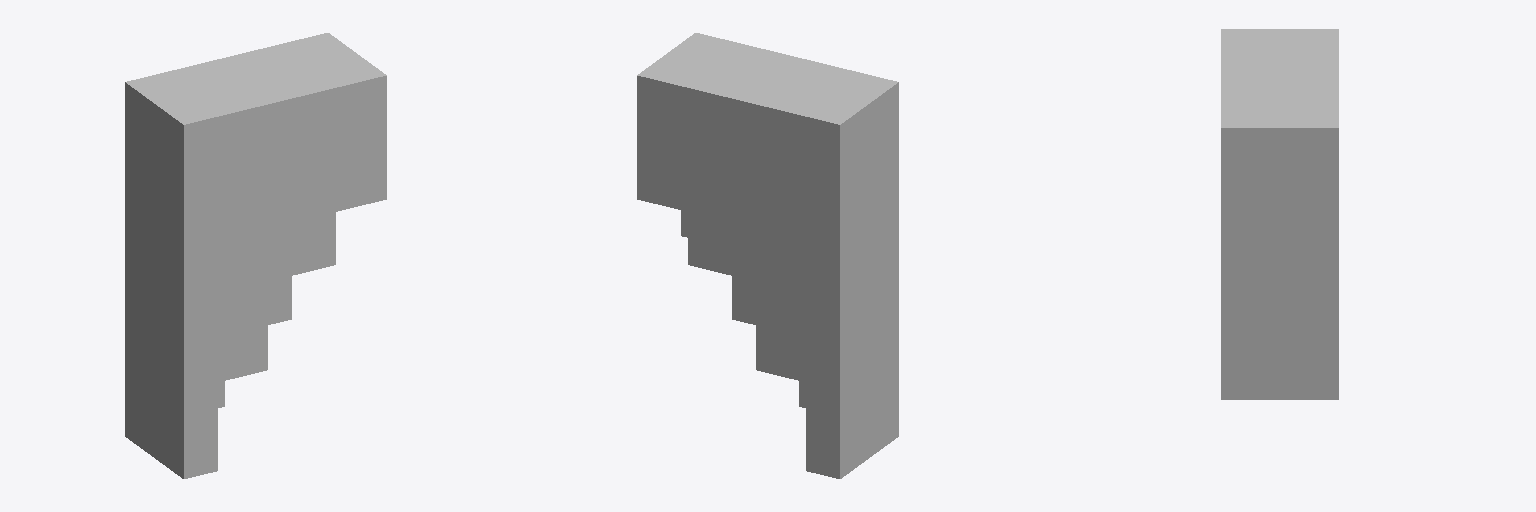
File: cliff joiner 2.obj
3 renders of one model, left to right at view 1: azimuth 30°, elevation 25°; view 2: azimuth 150°, elevation 25°; view 3: azimuth 270°, elevation 25°, orthographic.
Size of the model in its own units: 12 by 20 by 6.